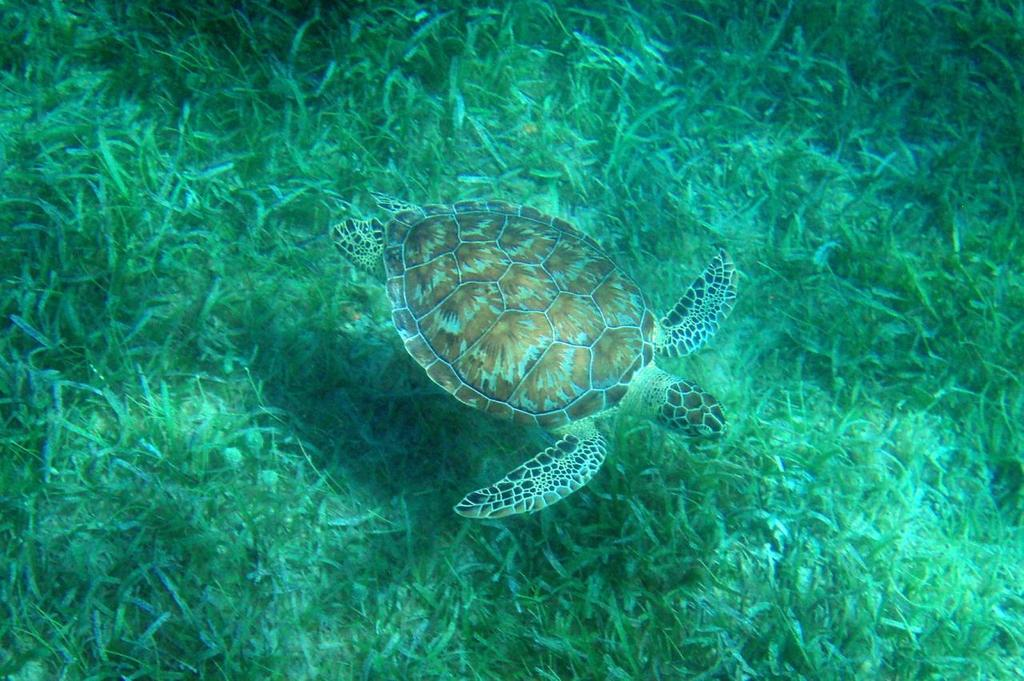Sea turtles: (333, 184, 742, 535)
